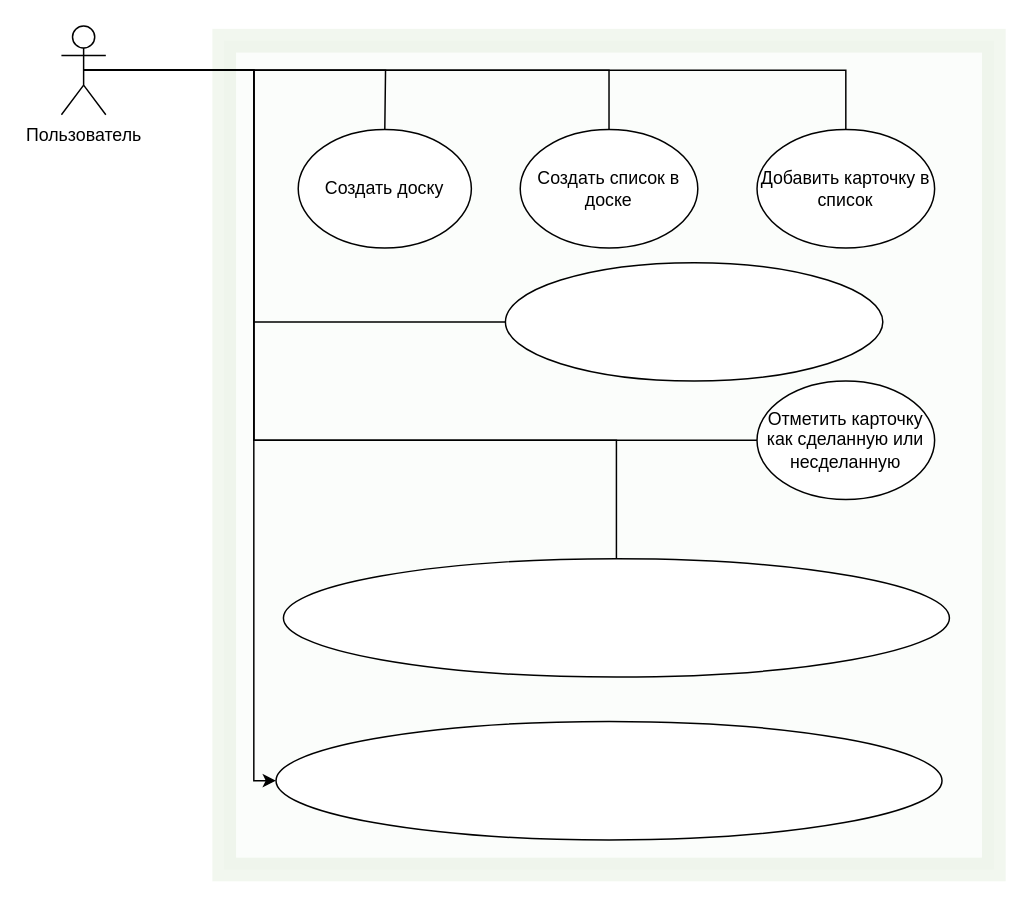
Some shapes in this 1030 by 907 pixel diagram are drawn without their labels. The shapes that lost their labels are listed below. From the top down, each one's centre as x and y in pixels, then its label:
At (693,321): "Присвоить списку\карточке приоритет".
At (615,617): "Переместить элемент".
At (608,780): "Удалить элемент".
